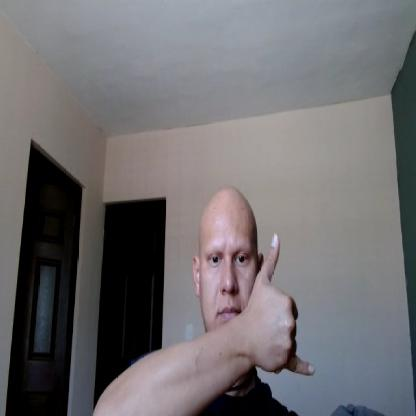Y: (243, 231, 315, 379)
